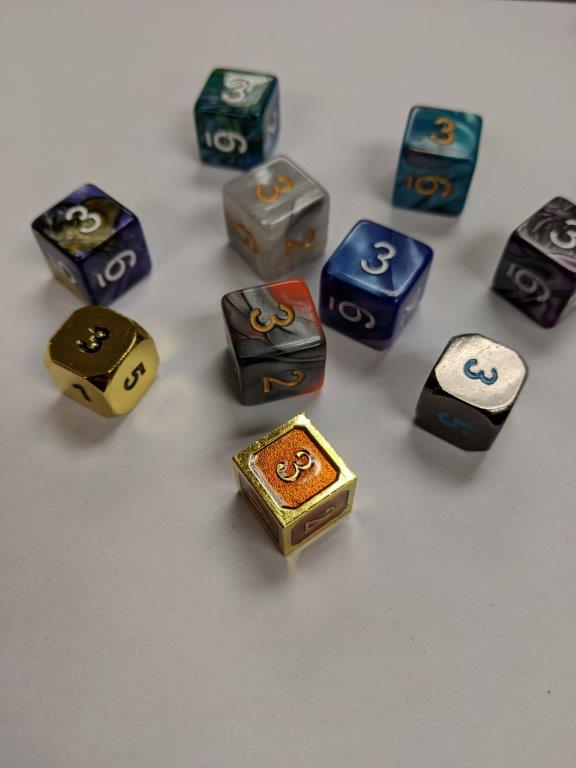d6-3: (228, 412, 361, 553), (319, 217, 432, 349), (415, 331, 531, 456), (33, 186, 154, 305), (44, 303, 164, 422), (221, 277, 331, 406), (221, 158, 328, 281), (491, 192, 576, 330), (388, 105, 484, 209), (192, 63, 283, 163)
